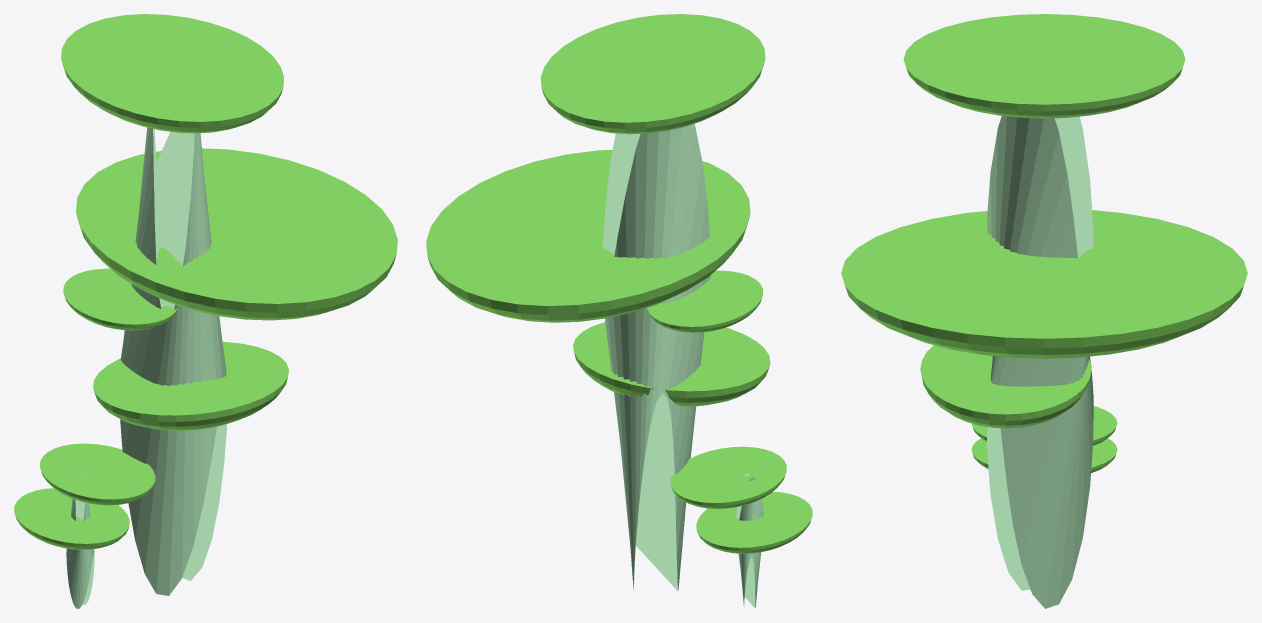
File: BTTrees2.fbx
The picture shows the model from 3 angles, left to right: view 1: azimuth 30°, elevation 25°; view 2: azimuth 150°, elevation 25°; view 3: azimuth 270°, elevation 25°; orthographic projection. The views are drawn at different scales.
Parts seen in each view (by area): view 1: BTTrees2; view 2: BTTrees2; view 3: BTTrees2.
Part boxes in pixels (left/top/right/bottom): BTTrees2: left=14, top=14, right=397, bottom=608; BTTrees2: left=426, top=14, right=812, bottom=608; BTTrees2: left=841, top=14, right=1247, bottom=608.
Size of the model in its own units: 962 by 1401 by 956.
